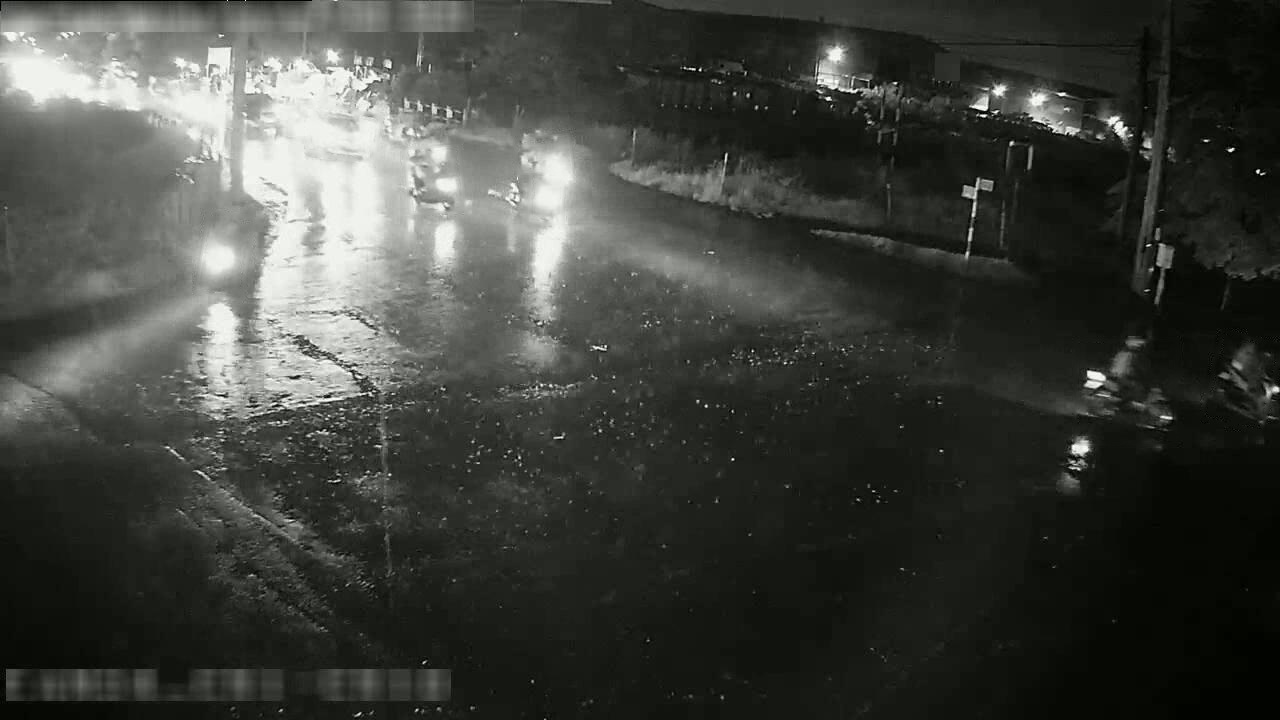Car: (306, 111, 377, 158)
Motorcyclist: (1078, 334, 1174, 443), (1214, 336, 1279, 427), (196, 216, 256, 293), (408, 144, 460, 210), (519, 134, 573, 182), (526, 178, 565, 223)
